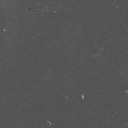corrosion: (80, 94, 85, 100)
